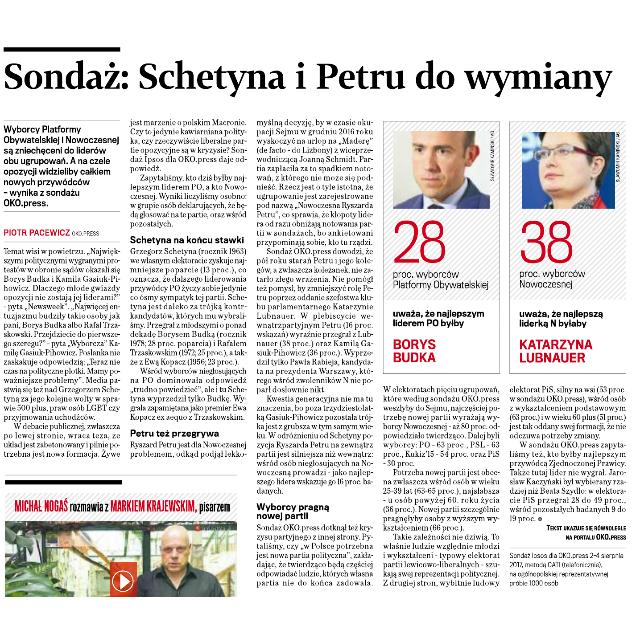author: (2, 224, 72, 240)
body: (256, 115, 376, 595), (128, 117, 252, 466), (1, 244, 124, 463), (381, 382, 502, 592), (507, 381, 629, 525)
image: (514, 124, 624, 213), (388, 126, 497, 212)
lead: (2, 121, 122, 209)
title: (3, 53, 619, 99)
